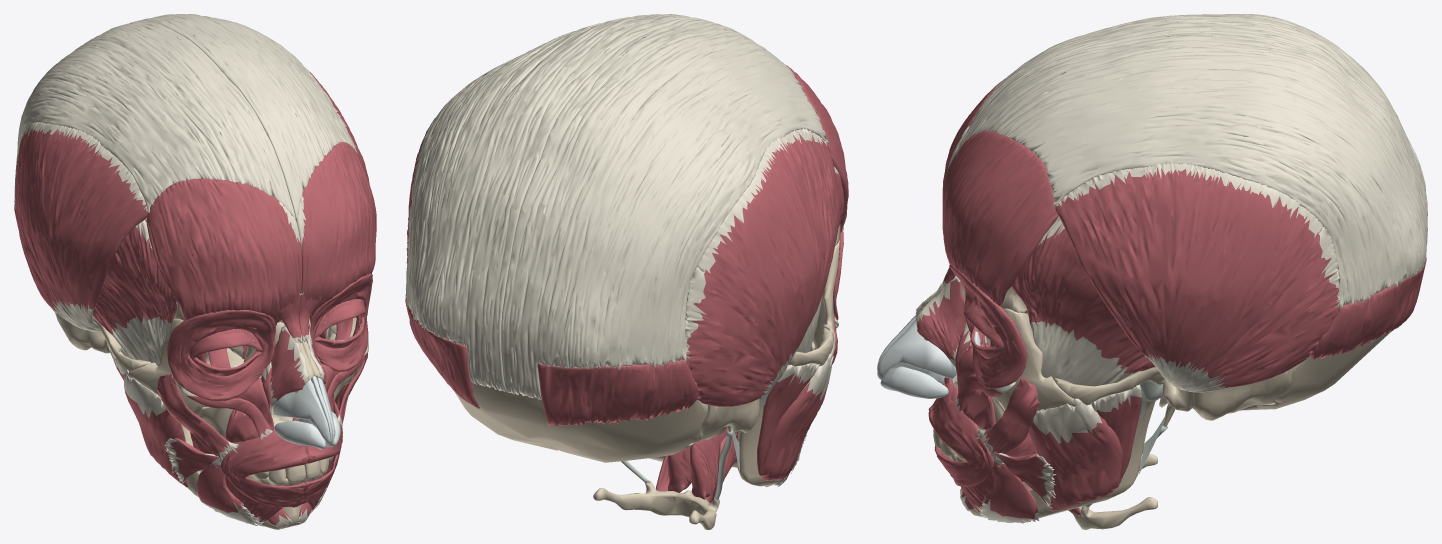
File: head.glb
The picture shows the model from 3 angles, left to right: view 1: azimuth 30°, elevation 25°; view 2: azimuth 150°, elevation 25°; view 3: azimuth 270°, elevation 25°; orthographic projection. The views are drawn at different scales.
Visible parts, largest first — view 1: za-1ef48e94649f, za-33f95c745228, za-3b6e1d04764c, za-6758c46ff35d, za-f3dba599bfa4, za-12261711ce5b, za-29b7f43f8aa7, za-6911b87e4adc, za-4deae5946794, za-bf646586600a, za-5a121b84ee03, za-5627d84f5fe5 (+19 smaller); view 2: za-1ef48e94649f, za-6758c46ff35d, za-33f95c745228, za-db74fa732312, za-04ee24e8ee7c, za-4deae5946794, za-0ae71842d58a, za-abc74f6a1f41, za-de51bcc0183f, za-eb2d3220a099, za-1520fcaa8dde, za-3b6e1d04764c (+4 smaller); view 3: za-6758c46ff35d, za-49aa2bae7160, za-f3dba599bfa4, za-baa50a3291f4, za-1ef48e94649f, za-2ddfde5198e8, za-6d36daa5e529, za-abc74f6a1f41, za-e5566e083785, za-bf646586600a, za-db74fa732312, za-5c6186fd412f (+12 smaller).
Part boxes in pixels (x1=…): za-1ef48e94649f: x1=14, y1=20, x2=295, y2=219; za-33f95c745228: x1=15, y1=122, x2=148, y2=331; za-3b6e1d04764c: x1=146, y1=178, x2=301, y2=322; za-6758c46ff35d: x1=138, y1=14, x2=357, y2=219; za-f3dba599bfa4: x1=296, y1=142, x2=376, y2=314; za-12261711ce5b: x1=92, y1=220, x2=177, y2=365; za-29b7f43f8aa7: x1=167, y1=310, x2=275, y2=400; za-6911b87e4adc: x1=220, y1=427, x2=308, y2=507; za-4deae5946794: x1=124, y1=369, x2=187, y2=487; za-bf646586600a: x1=310, y1=273, x2=372, y2=371; za-5a121b84ee03: x1=156, y1=374, x2=238, y2=462; za-5627d84f5fe5: x1=270, y1=326, x2=308, y2=406; za-1ef48e94649f: x1=501, y1=19, x2=828, y2=399; za-6758c46ff35d: x1=405, y1=14, x2=700, y2=391; za-33f95c745228: x1=685, y1=128, x2=840, y2=406; za-db74fa732312: x1=455, y1=383, x2=708, y2=462; za-04ee24e8ee7c: x1=537, y1=359, x2=697, y2=427; za-4deae5946794: x1=759, y1=353, x2=833, y2=480; za-0ae71842d58a: x1=593, y1=480, x2=719, y2=529; za-abc74f6a1f41: x1=405, y1=295, x2=479, y2=408; za-de51bcc0183f: x1=692, y1=328, x2=834, y2=443; za-eb2d3220a099: x1=757, y1=363, x2=819, y2=474; za-1520fcaa8dde: x1=690, y1=428, x2=736, y2=499; za-3b6e1d04764c: x1=786, y1=65, x2=848, y2=232; za-6758c46ff35d: x1=958, y1=32, x2=1427, y2=308; za-49aa2bae7160: x1=1055, y1=162, x2=1339, y2=392; za-f3dba599bfa4: x1=942, y1=130, x2=1058, y2=306; za-baa50a3291f4: x1=1011, y1=219, x2=1155, y2=386; za-1ef48e94649f: x1=958, y1=14, x2=1427, y2=218; za-2ddfde5198e8: x1=1028, y1=398, x2=1122, y2=511; za-6d36daa5e529: x1=1054, y1=367, x2=1292, y2=427; za-abc74f6a1f41: x1=1311, y1=257, x2=1426, y2=360; za-e5566e083785: x1=928, y1=383, x2=993, y2=487; za-bf646586600a: x1=949, y1=264, x2=1027, y2=388; za-db74fa732312: x1=1240, y1=331, x2=1391, y2=410; za-5c6186fd412f: x1=916, y1=275, x2=966, y2=369.
Bounding box in the file's own units: 0.1608 × 0.2161 × 0.221.
